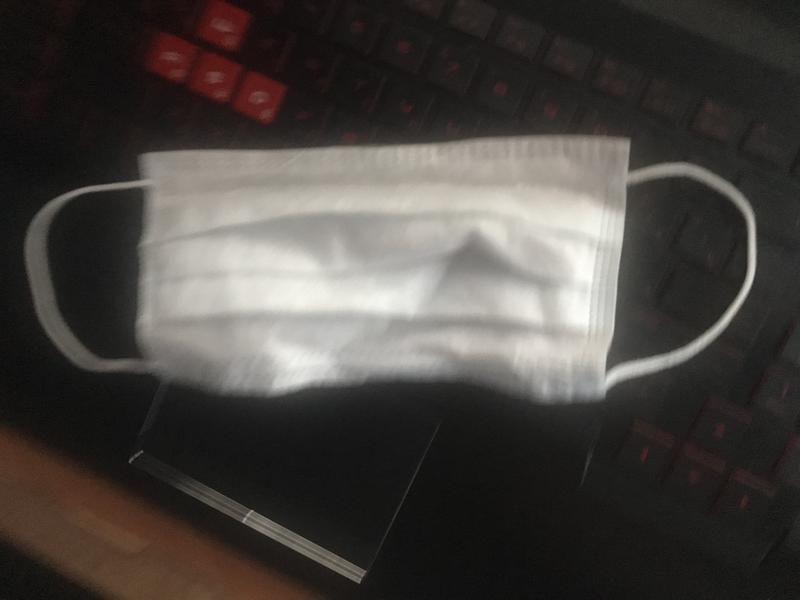medical_mask: (26, 138, 761, 405)
